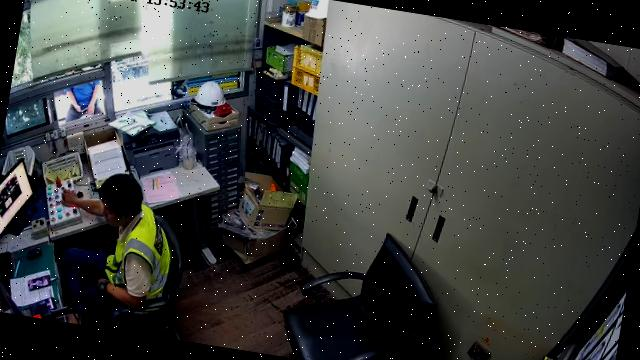Head: (99, 175, 142, 228)
People: (62, 175, 171, 322)
Phone: (30, 298, 55, 315), (28, 276, 51, 291)
